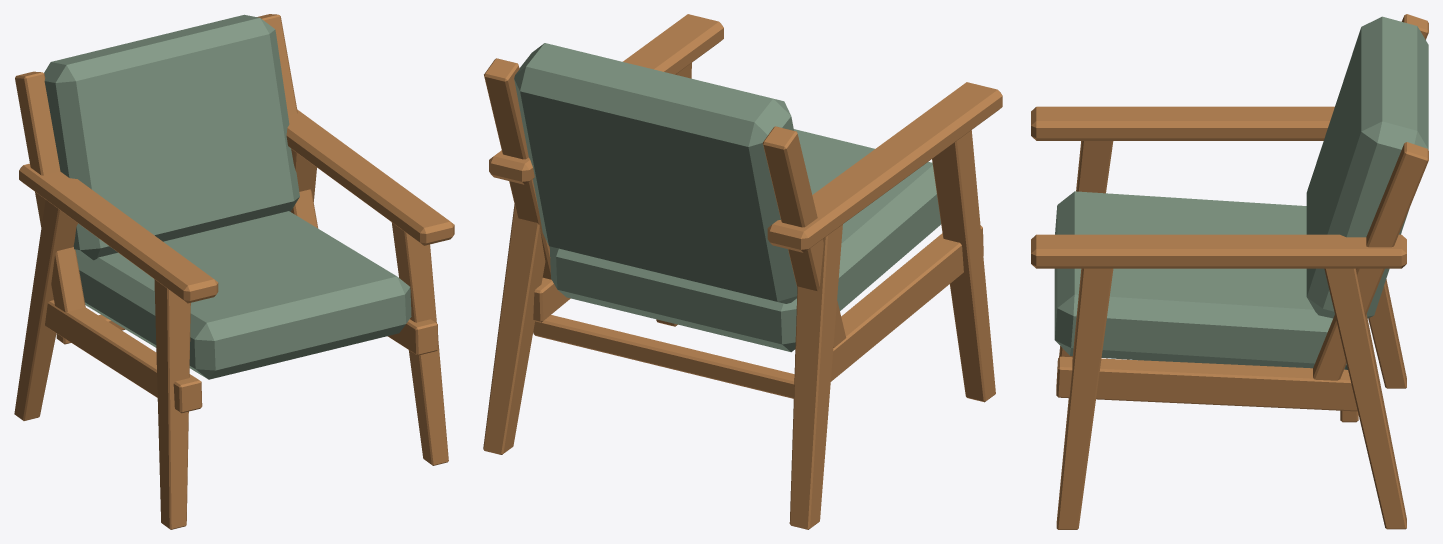
Rendered from 03_lounge_chair.glb.
3 renders of one model, left to right at view 1: azimuth 30°, elevation 25°; view 2: azimuth 150°, elevation 25°; view 3: azimuth 270°, elevation 25°, orthographic. The views are drawn at different scales.
Parts seen in each view (by area): view 1: Sage_reclined_back, Sage_seat, Floating_armrest, Front_splayed_leg, Floating_armrest.001, Front_splayed_leg.001, Rear_splayed_leg, Side_seat_rail, Reclined_back_rail, Reclined_back_rail.001, Side_seat_rail.001, Rear_splayed_leg.001; view 2: Sage_reclined_back, Sage_seat, Floating_armrest, Rear_splayed_leg, Front_splayed_leg, Rear_splayed_leg.001, Side_seat_rail, Lower_crossbar, Reclined_back_rail, Floating_armrest.001, Reclined_back_rail.001, Side_seat_rail.001; view 3: Sage_seat, Sage_reclined_back, Floating_armrest.001, Side_seat_rail.001, Floating_armrest, Rear_splayed_leg.001, Front_splayed_leg.001, Reclined_back_rail.001, Rear_splayed_leg, Front_splayed_leg.
Boxes of the visible parts, left/top/right/bottom form: Sage_reclined_back: left=44, top=14, right=299, bottom=260; Sage_seat: left=76, top=211, right=411, bottom=379; Floating_armrest: left=19, top=163, right=218, bottom=303; Front_splayed_leg: left=154, top=279, right=190, bottom=529; Floating_armrest.001: left=286, top=109, right=454, bottom=245; Front_splayed_leg.001: left=391, top=222, right=448, bottom=465; Rear_splayed_leg: left=14, top=200, right=77, bottom=420; Side_seat_rail: left=45, top=300, right=202, bottom=413; Reclined_back_rail: left=15, top=71, right=85, bottom=312; Reclined_back_rail.001: left=257, top=14, right=318, bottom=228; Side_seat_rail.001: left=387, top=319, right=438, bottom=355; Rear_splayed_leg.001: left=291, top=148, right=316, bottom=201; Sage_reclined_back: left=514, top=43, right=797, bottom=303; Sage_seat: left=549, top=129, right=940, bottom=352; Floating_armrest: left=767, top=82, right=1002, bottom=252; Rear_splayed_leg: left=789, top=224, right=842, bottom=529; Front_splayed_leg: left=932, top=130, right=995, bottom=402; Rear_splayed_leg.001: left=483, top=204, right=545, bottom=454; Side_seat_rail: left=795, top=225, right=983, bottom=381; Lower_crossbar: left=533, top=315, right=794, bottom=398; Reclined_back_rail: left=762, top=126, right=846, bottom=347; Floating_armrest.001: left=489, top=14, right=723, bottom=184; Reclined_back_rail.001: left=484, top=58, right=551, bottom=279; Side_seat_rail.001: left=533, top=277, right=570, bottom=322; Sage_seat: left=1054, top=191, right=1347, bottom=369; Sage_reclined_back: left=1306, top=16, right=1428, bottom=318; Floating_armrest.001: left=1031, top=234, right=1406, bottom=268; Side_seat_rail.001: left=1056, top=356, right=1357, bottom=411; Floating_armrest: left=1031, top=106, right=1334, bottom=140; Rear_splayed_leg.001: left=1324, top=268, right=1406, bottom=529; Front_splayed_leg.001: left=1056, top=268, right=1113, bottom=529; Reclined_back_rail.001: left=1313, top=142, right=1428, bottom=380; Rear_splayed_leg: left=1368, top=279, right=1406, bottom=388; Front_splayed_leg: left=1059, top=141, right=1113, bottom=357.
Size of the model in its own units: 0.6856 by 0.8161 by 0.7621.
